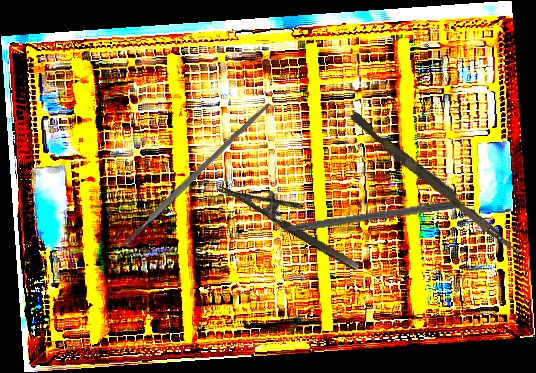Needle Holder: (216, 162, 371, 274)
Pusher: (346, 111, 526, 256), (255, 197, 458, 238)
Scalpel Handle: (121, 100, 272, 247)
